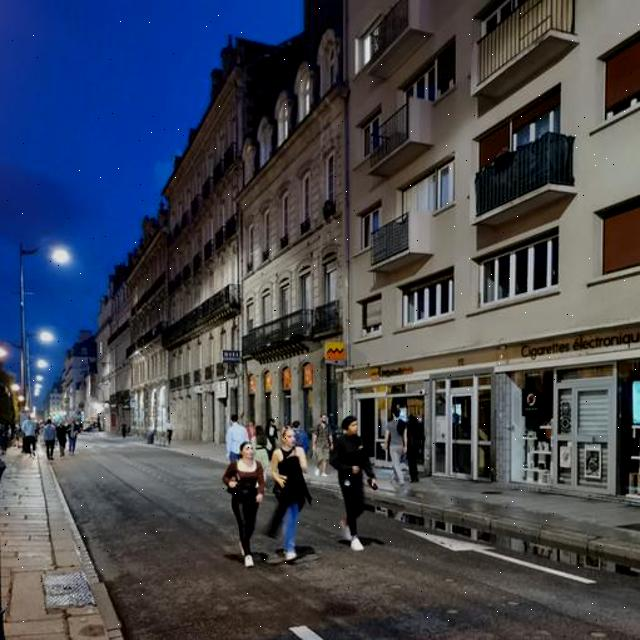curb: (366, 490, 639, 576), (40, 458, 122, 639), (180, 444, 224, 464), (309, 475, 339, 498)
